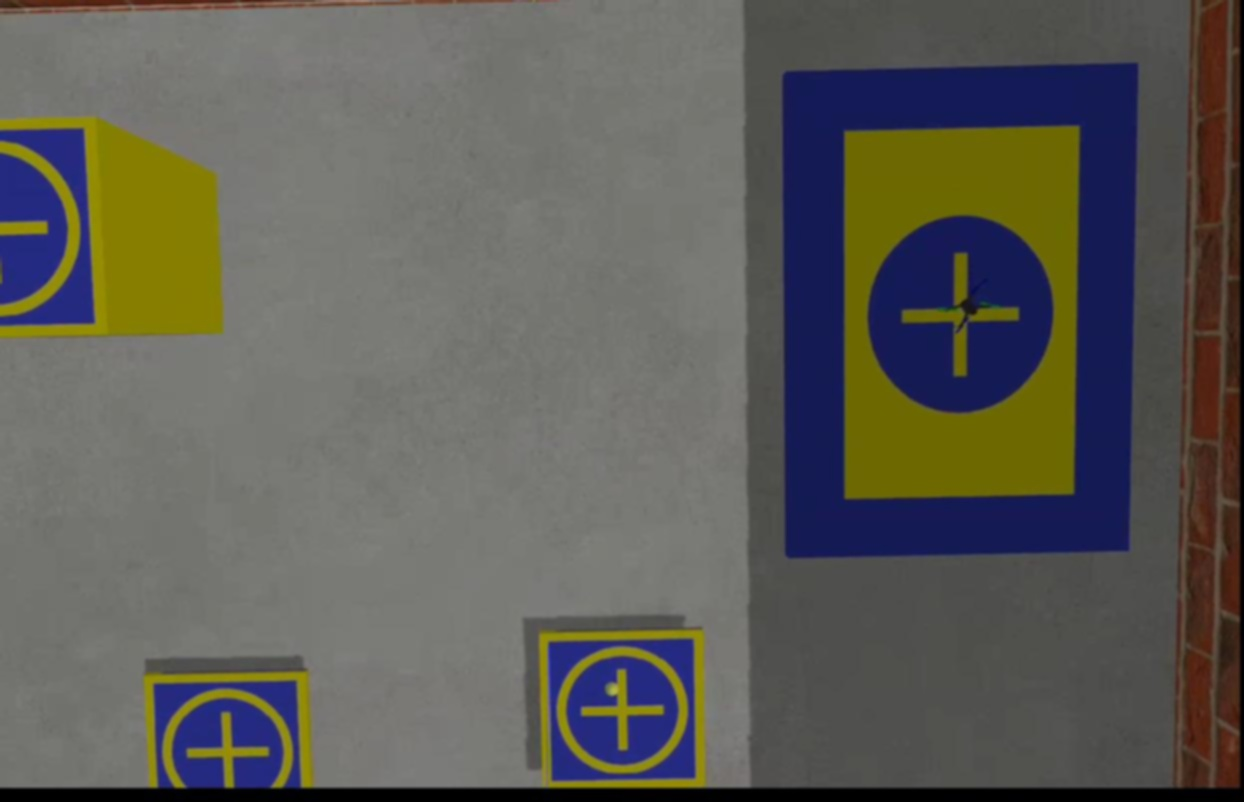large_base: (781, 60, 1141, 558)
small_base: (536, 626, 706, 788), (0, 116, 112, 342), (142, 666, 312, 788)
